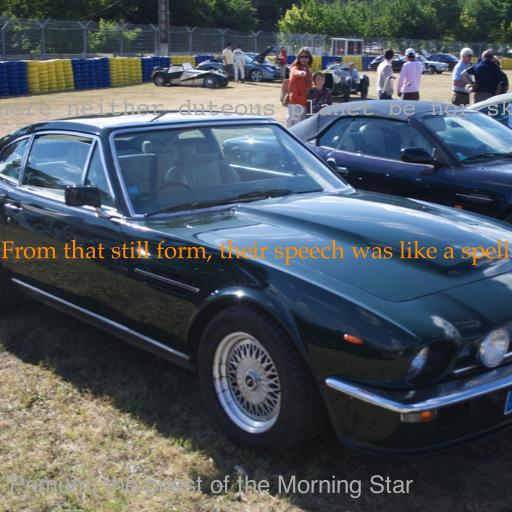Courier: (0, 98, 512, 120)
Palatino: (0, 239, 510, 265)
SignPainter: (9, 475, 413, 499)
